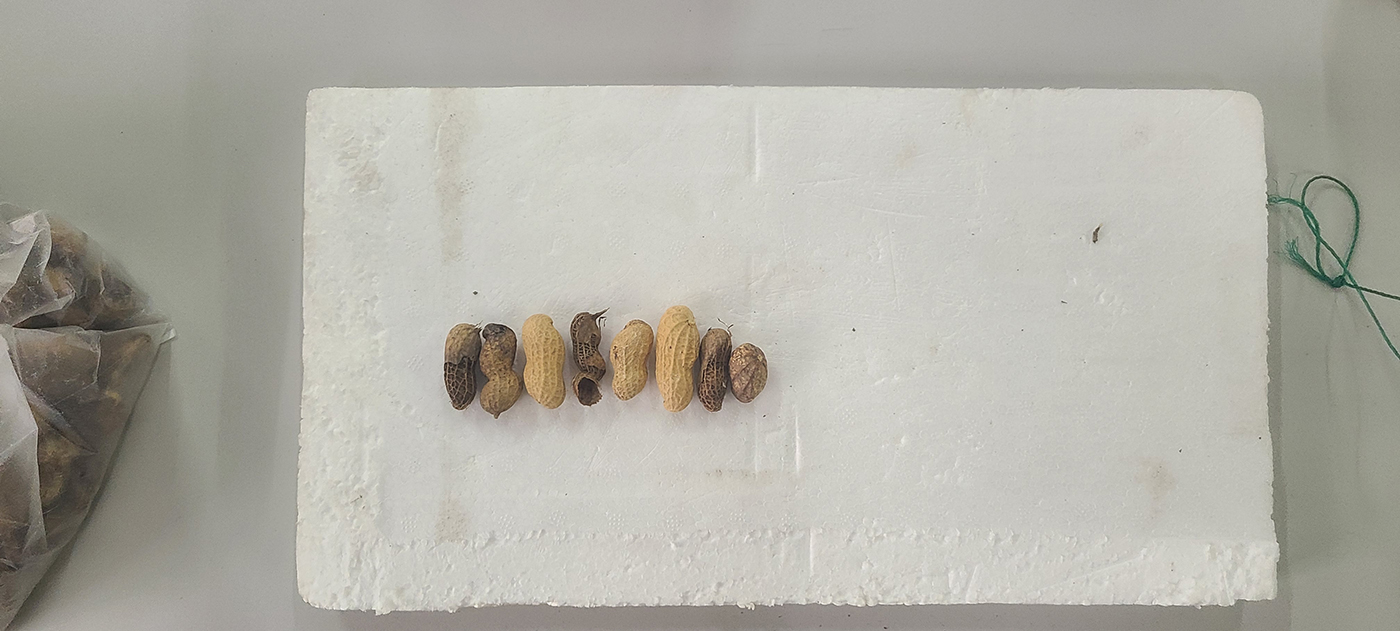h: (654, 305, 701, 413), (521, 314, 566, 408), (609, 319, 654, 400)
l: (478, 323, 522, 415), (570, 311, 606, 406), (443, 322, 480, 410), (697, 328, 732, 413), (729, 343, 768, 403)
